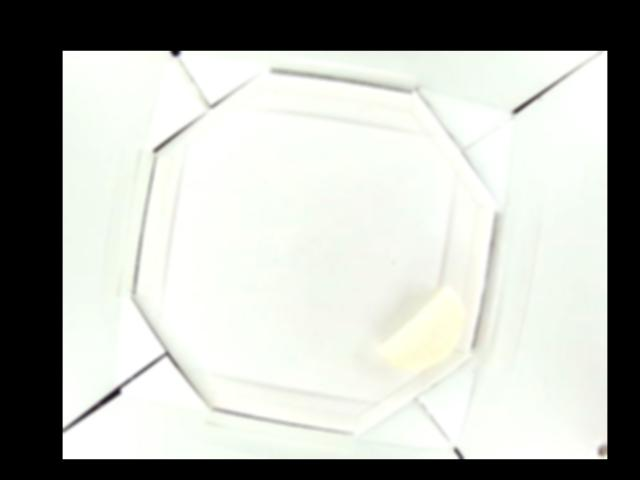Mooli: (376, 285, 463, 370)
